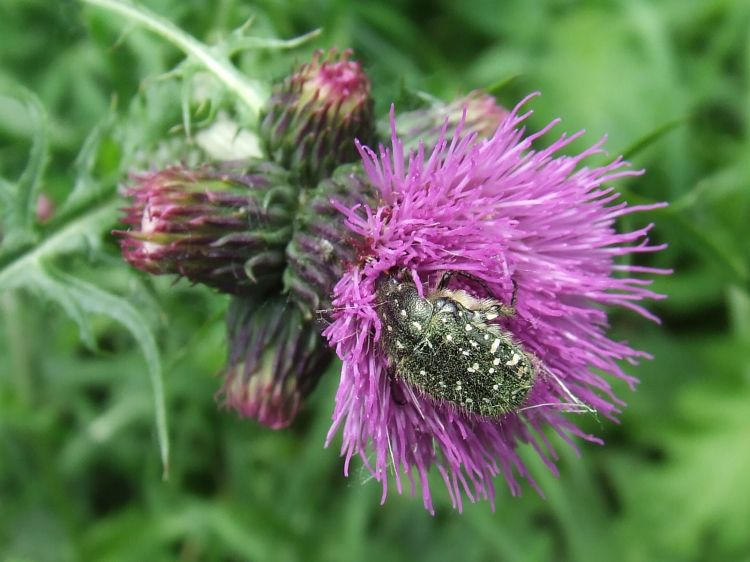Oxythyrea_funesta: (377, 268, 554, 423)
